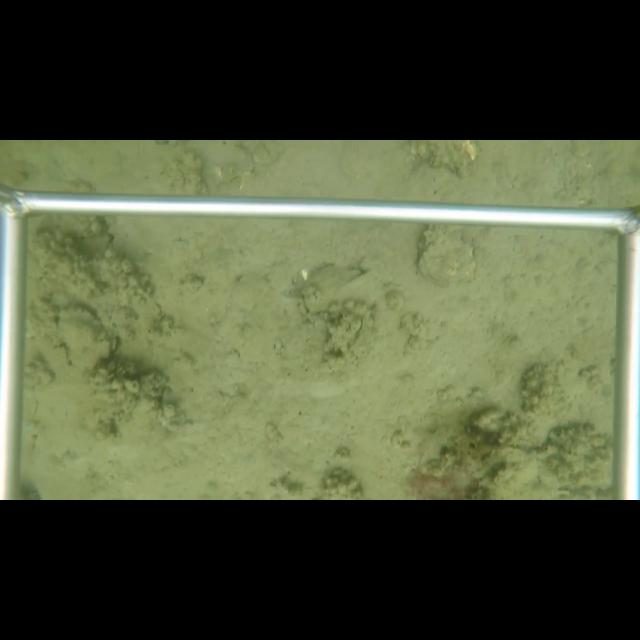Oyster-Closed: (53, 305, 115, 373), (417, 224, 477, 286)
